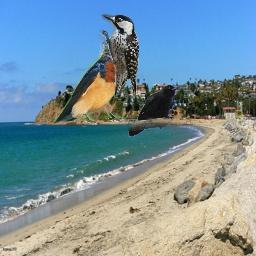Crow: (128, 85, 180, 137)
Swallow: (53, 45, 133, 125)
Woodpecker: (98, 14, 139, 98)
